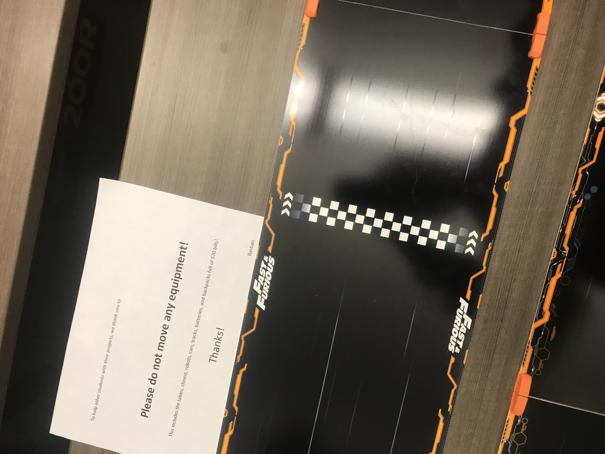Finish Line: (279, 189, 479, 256)
